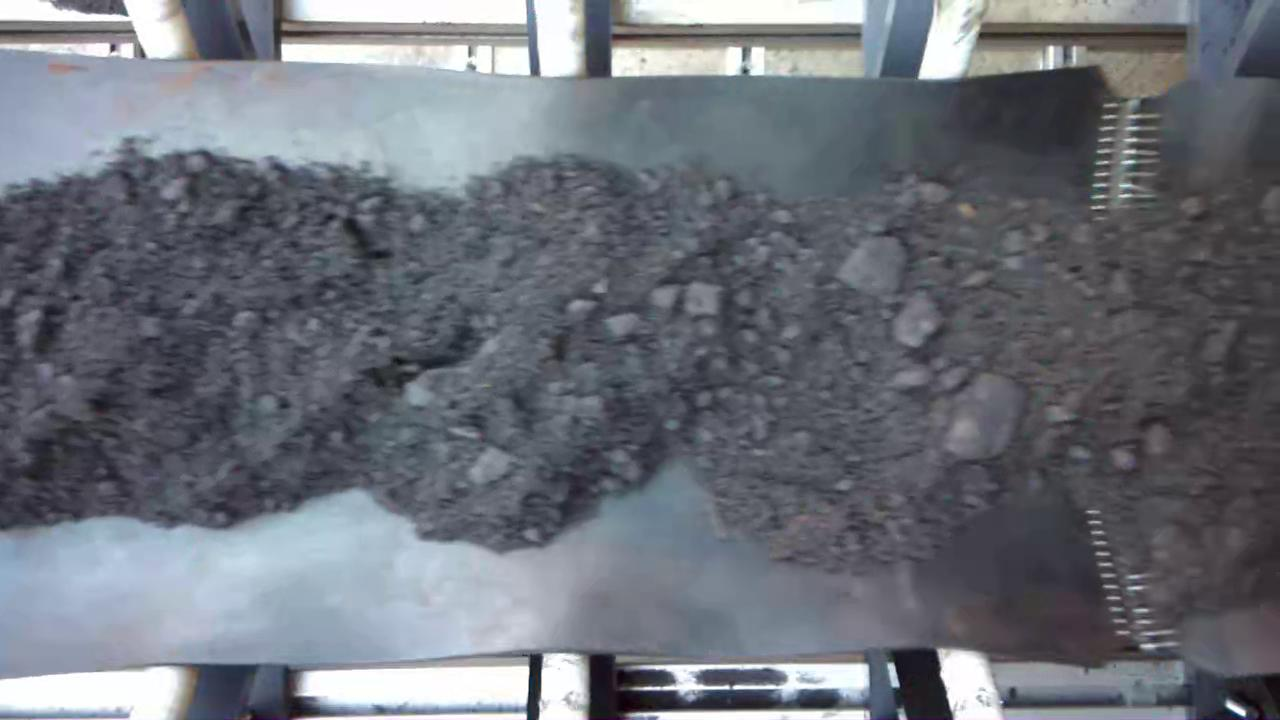conveyor: (7, 84, 1280, 643)
